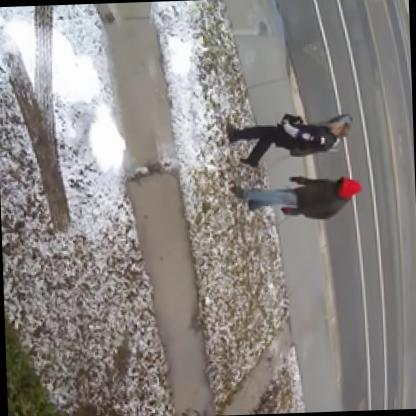Human Body: (219, 106, 358, 174), (231, 166, 362, 228)
